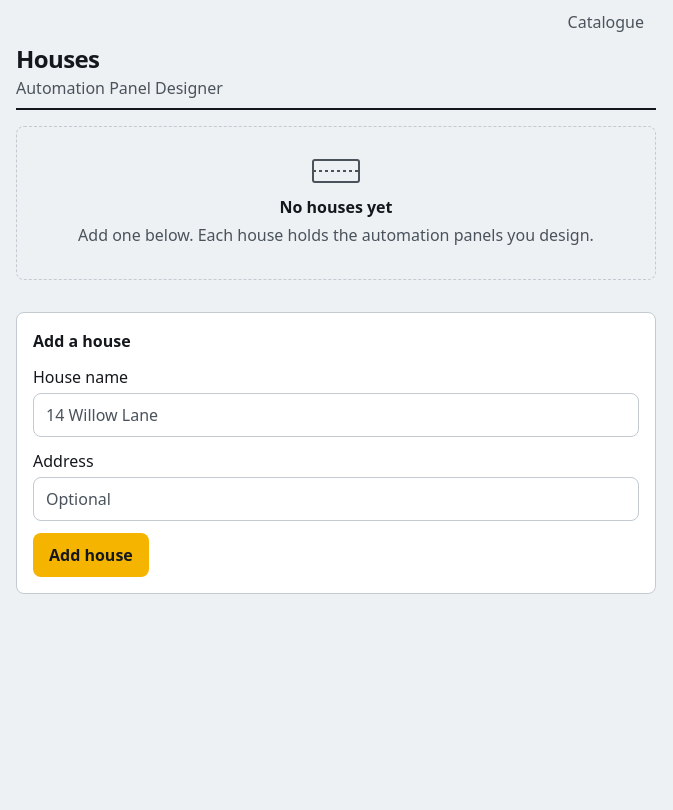
ProjectsPage › clears the last attempt's message before saying what this one did
Check: the text "No houses yet" is shown, box [280,196,392,218]
In the field labelled "House name": (336, 415) [33,393,639,437], type "Keep me"
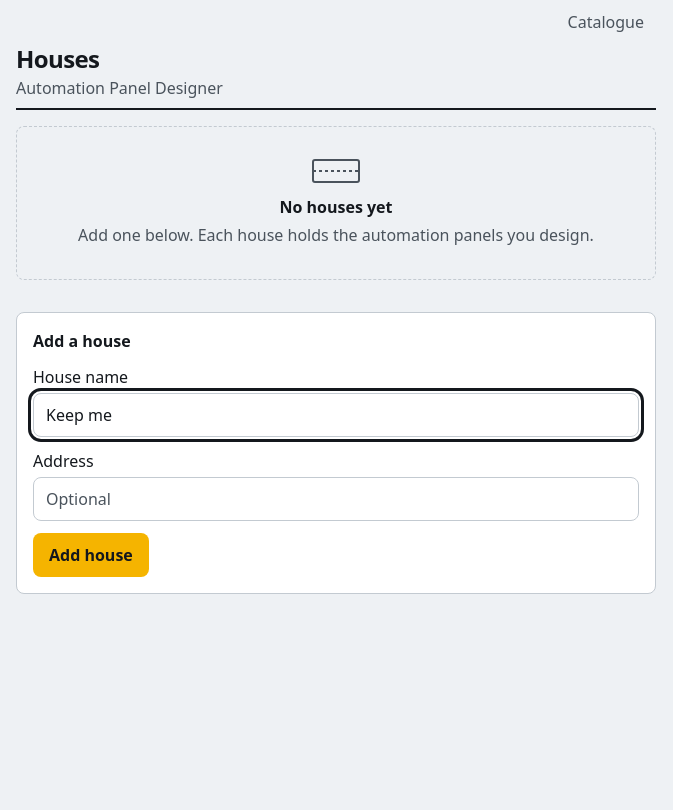
Click the button "Add house": (91, 555) [33,533,149,577]
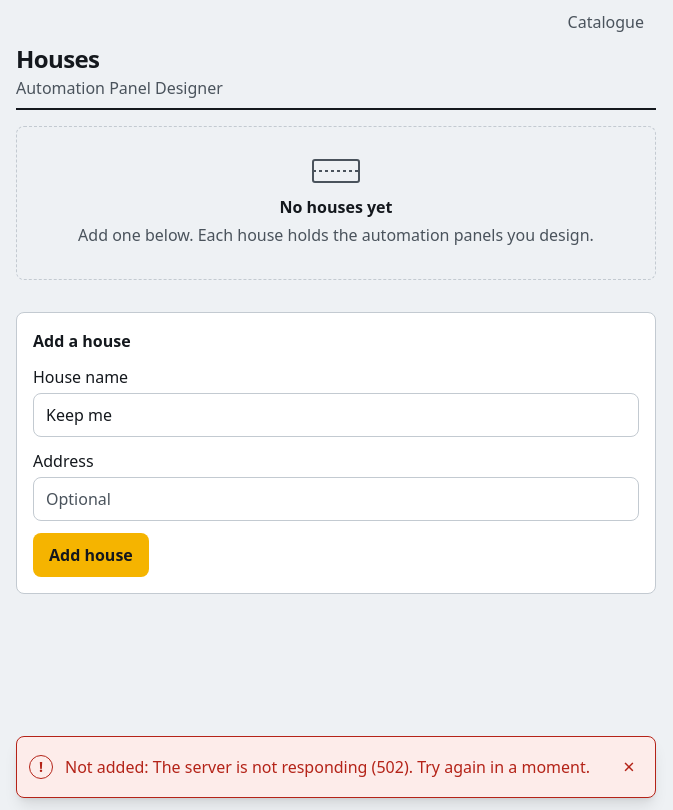
Check: the message shows "Not added: The server is not responding", box [65,756,590,778]
Clear the field labelled "House name": (336, 415) [33,393,639,437]
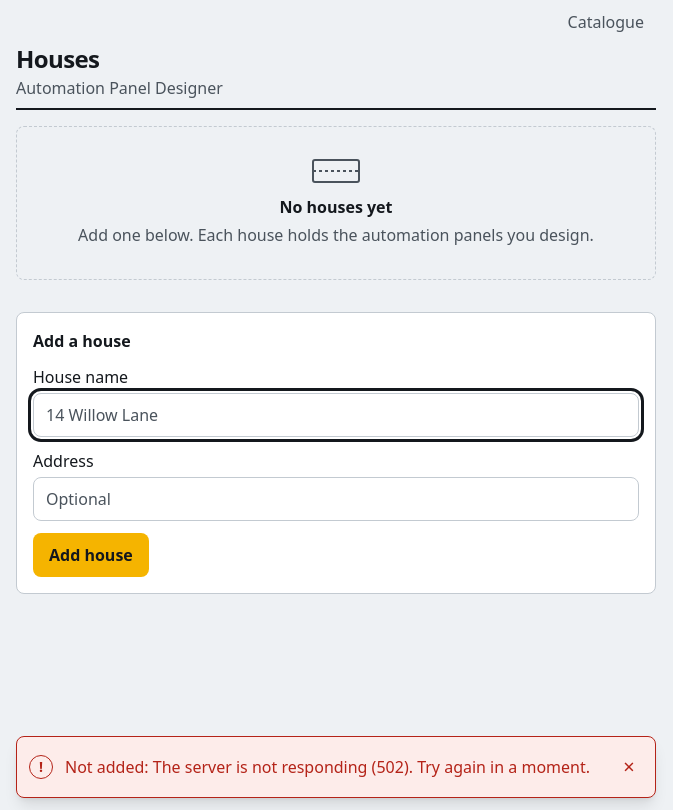
Click the button "Add house": (91, 555) [33,533,149,577]
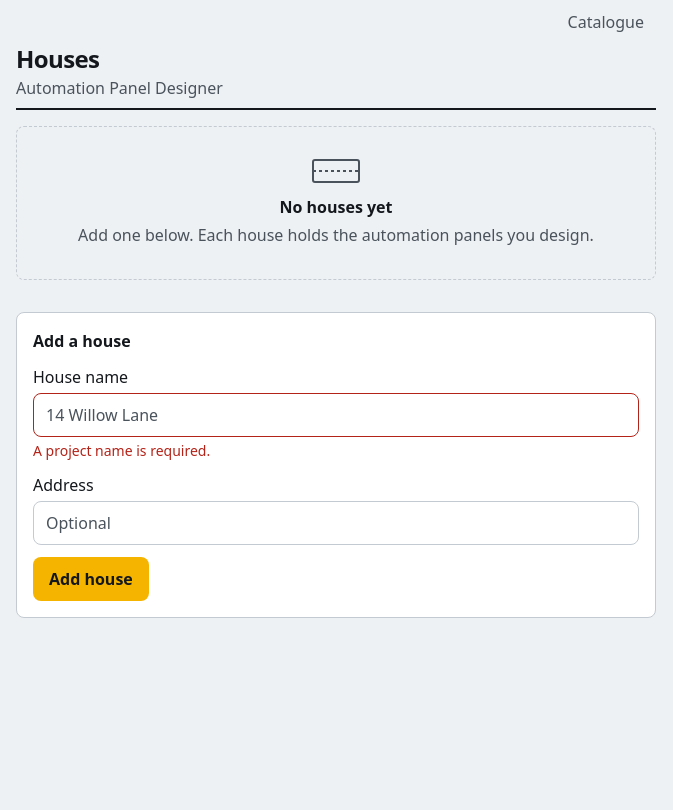
Check: the list item "A project name is required." is shown, box [33,441,210,460]
